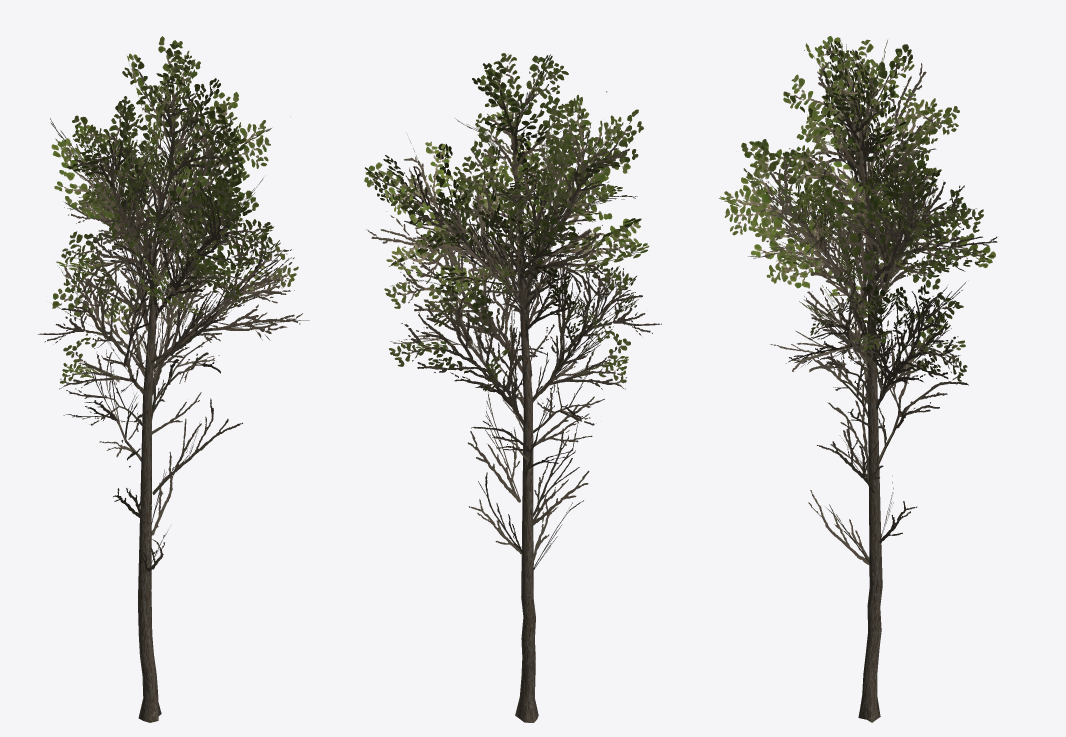
Rendered from SM_BlackAlder_Forest_08_PP_LOD5.gltf.
3 renders of one model, left to right at view 1: azimuth 30°, elevation 25°; view 2: azimuth 150°, elevation 25°; view 3: azimuth 270°, elevation 25°, orthographic. The views are drawn at different scales.
Visible parts, largest first — view 1: SM_BlackAlder_Forest_08_PP; view 2: SM_BlackAlder_Forest_08_PP; view 3: SM_BlackAlder_Forest_08_PP.
Boxes of the visible parts, bbox=[...] form: SM_BlackAlder_Forest_08_PP: bbox=[38, 36, 309, 722]; SM_BlackAlder_Forest_08_PP: bbox=[364, 53, 661, 722]; SM_BlackAlder_Forest_08_PP: bbox=[719, 36, 997, 722].
Bounding box in the file's own units: 3.47 × 7.69 × 3.4.
2 materials, 2 textured.
